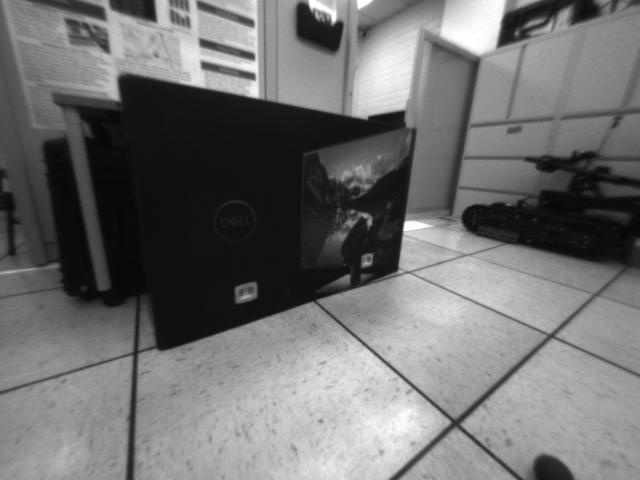dogtoy: (529, 441, 581, 480)
